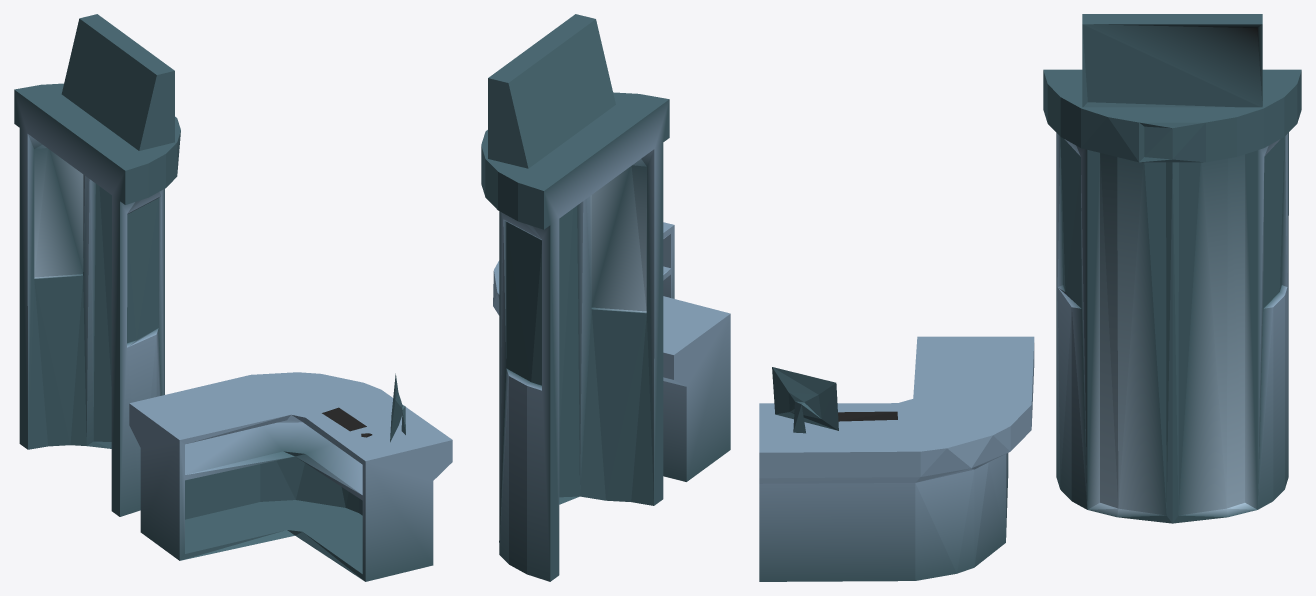
Rendered from porte-DpTSNKaw.glb.
The picture shows the model from 3 angles, left to right: view 1: azimuth 30°, elevation 25°; view 2: azimuth 150°, elevation 25°; view 3: azimuth 270°, elevation 25°; orthographic projection. The views are drawn at different scales.
Parts seen in each view (by area): view 1: 11.BoardingAreaDesk_Cube.123; view 2: 11.BoardingAreaDesk_Cube.123; view 3: 11.BoardingAreaDesk_Cube.123.
Part boxes in pixels (box(x1,y1,x2,y2)): 11.BoardingAreaDesk_Cube.123: box(14, 14, 452, 581); 11.BoardingAreaDesk_Cube.123: box(481, 14, 730, 581); 11.BoardingAreaDesk_Cube.123: box(759, 14, 1301, 581).
Size of the model in its own units: 1.86 by 3.66 by 3.67.
